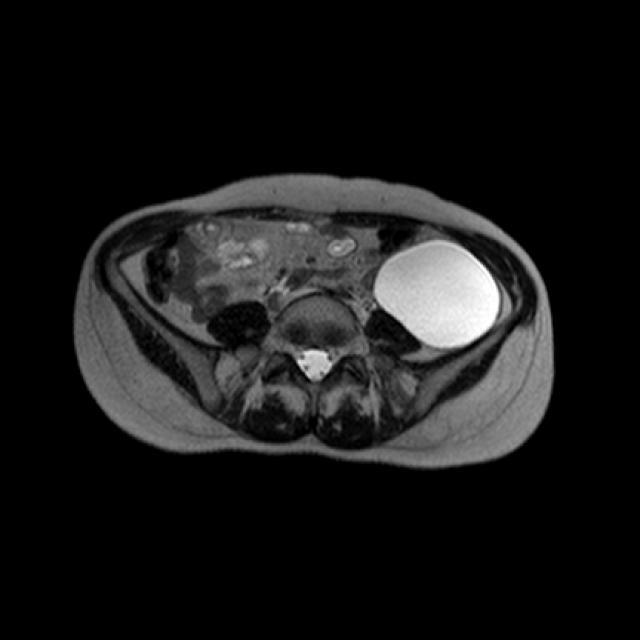sol: (375, 236, 504, 349)
